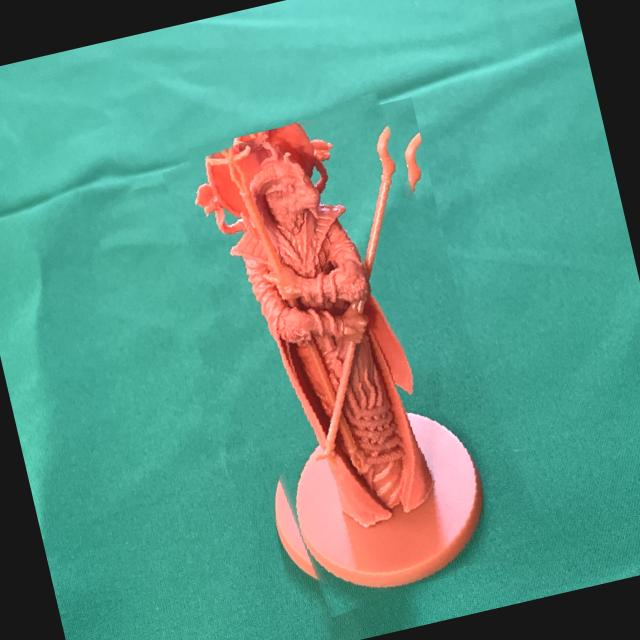amon: (170, 87, 536, 622)
